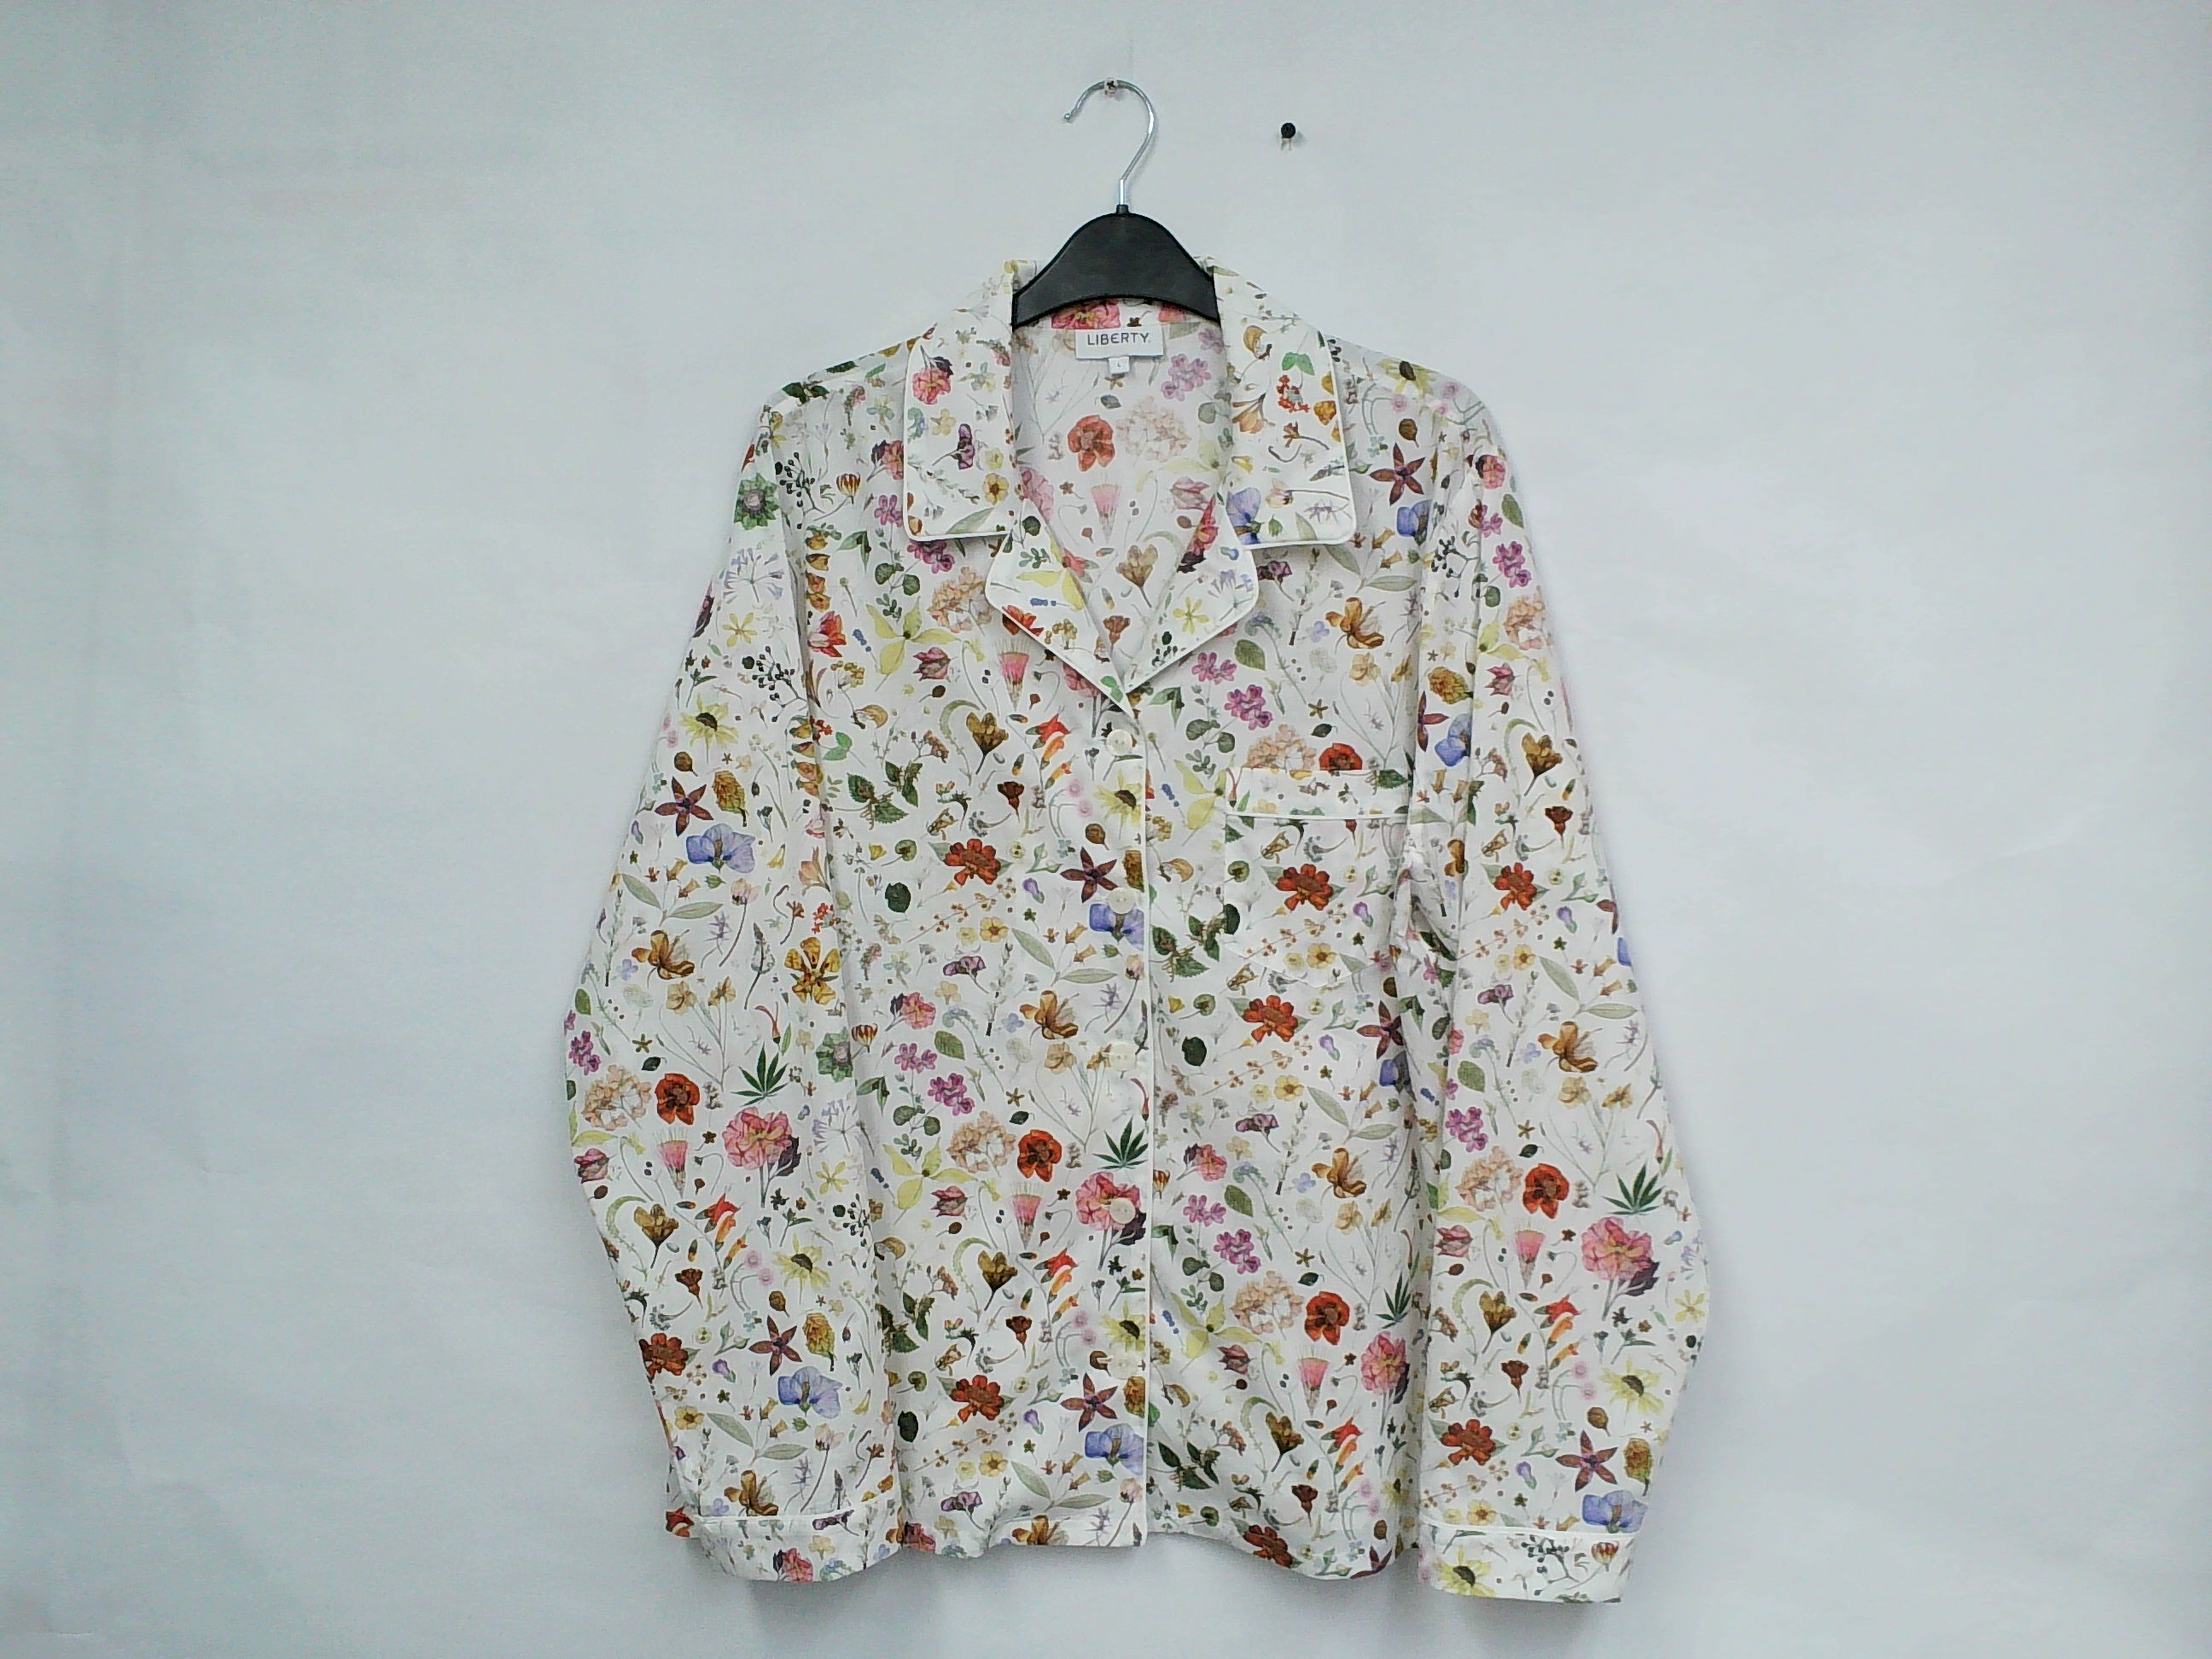wrinkles: (949, 1490, 1113, 1574)
